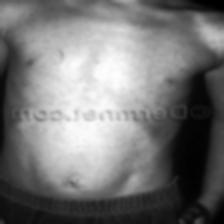Non-Cancerous Skin Condition: (0, 18, 123, 69), (19, 144, 152, 184)
